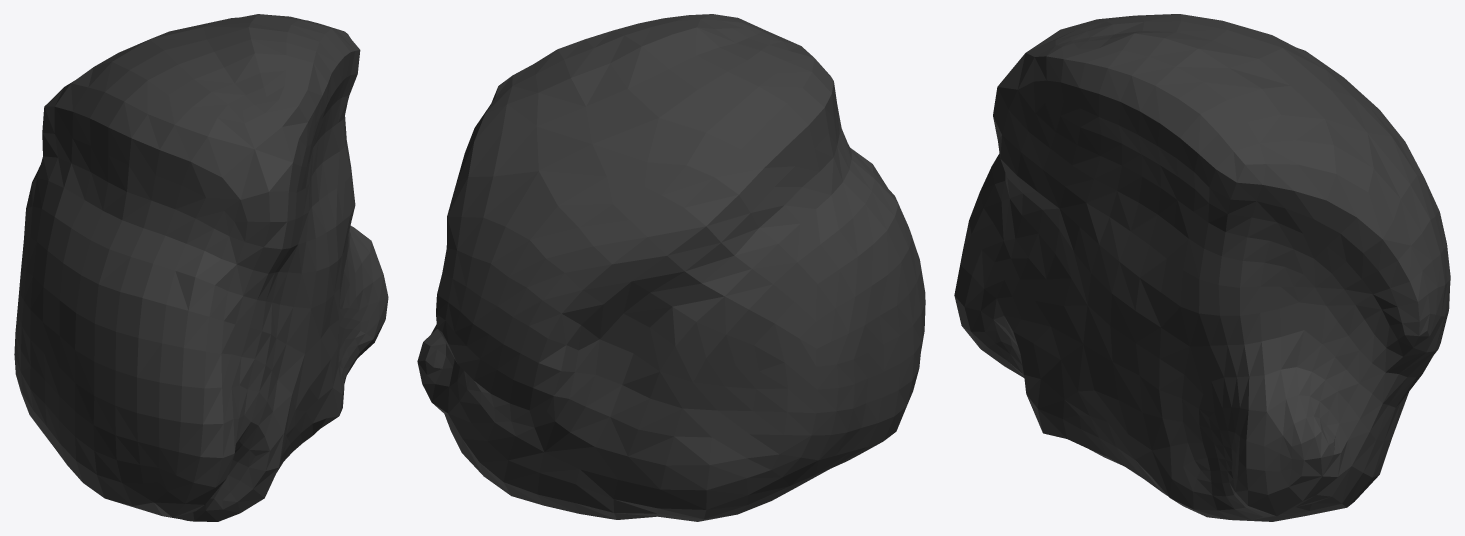
File: Second_carpal.glb
3 renders of one model, left to right at view 1: azimuth 30°, elevation 25°; view 2: azimuth 150°, elevation 25°; view 3: azimuth 270°, elevation 25°, orthographic. The views are drawn at different scales.
Parts seen in each view (by area): view 1: Second_carpal; view 2: Second_carpal; view 3: Second_carpal.
Part boxes in pixels (x1,y1,x2,y2): Second_carpal: (14, 14, 388, 521); Second_carpal: (417, 14, 925, 521); Second_carpal: (954, 14, 1450, 521).
Size of the model in its own units: 22.24 by 23.43 by 23.99.
Materials: 1 (1 with a texture image).
